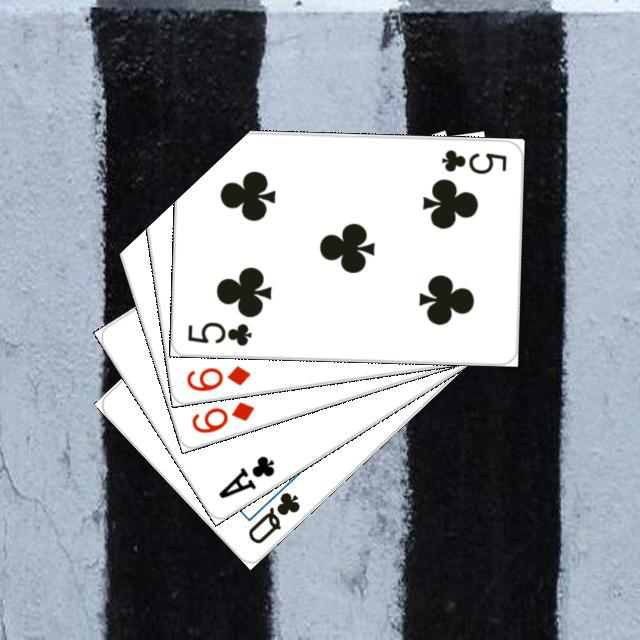5c: (437, 144, 509, 175), (182, 317, 253, 347)
6d: (186, 396, 256, 435), (181, 360, 252, 393)
Ac: (213, 450, 277, 501)
Qc: (240, 475, 302, 546)
